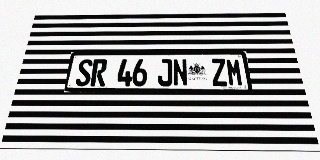4: (117, 59, 133, 86)
6: (132, 59, 147, 86)
J: (158, 59, 172, 86)
M: (225, 58, 244, 86)
N: (173, 59, 188, 86)
R: (90, 59, 108, 86)
S: (75, 59, 93, 86)
Z: (210, 59, 228, 86)
